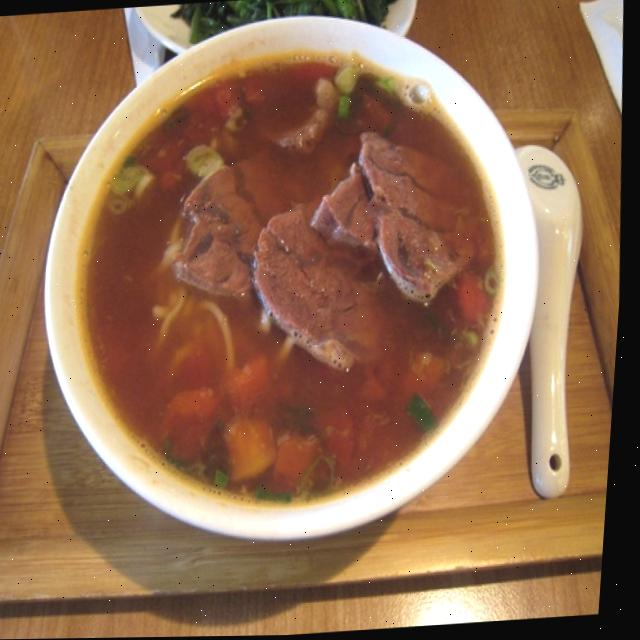面条主食: (35, 11, 563, 555)
